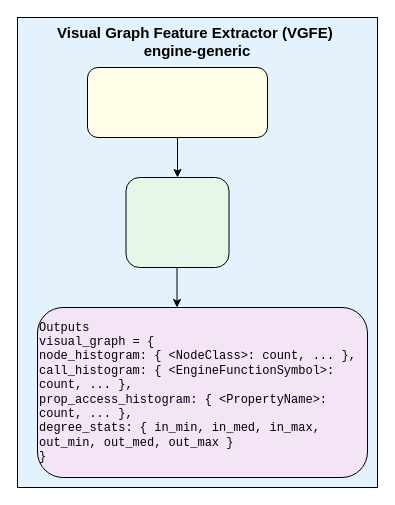
Image size: 395x505. Some labels were removed from this diagram. The shapes that lost their labels are listed below. From the top down, each one's box as (x1, y1, x2, y2) in pixels, then its label:
(86, 66, 268, 138): Input UE5 Blueprint (K2 graphs) or other visual-scripting assets
(125, 176, 229, 268): Process Enumerate graphs -> nodes -> pins (no domain logic)
